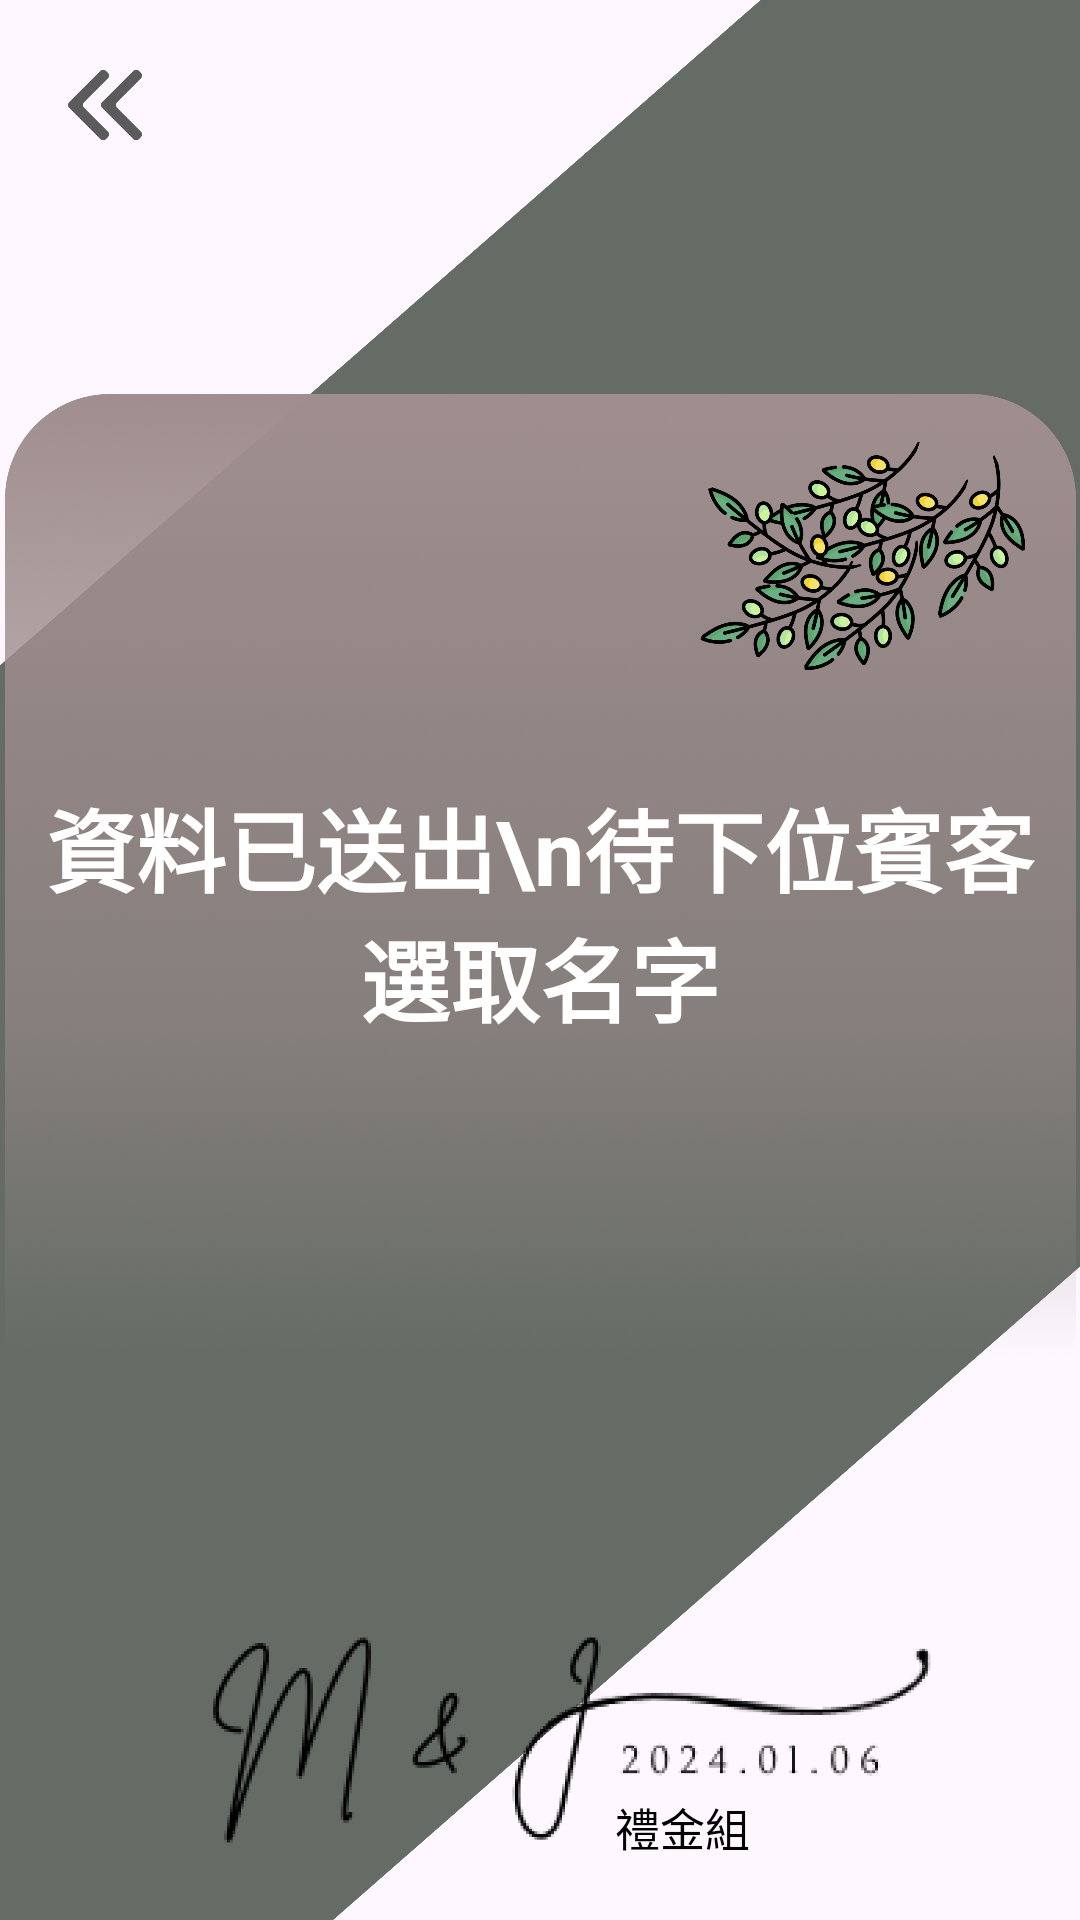

Where to tap for icons on this 1080*1920 app screen, as (x,y):
back: (105,105)
